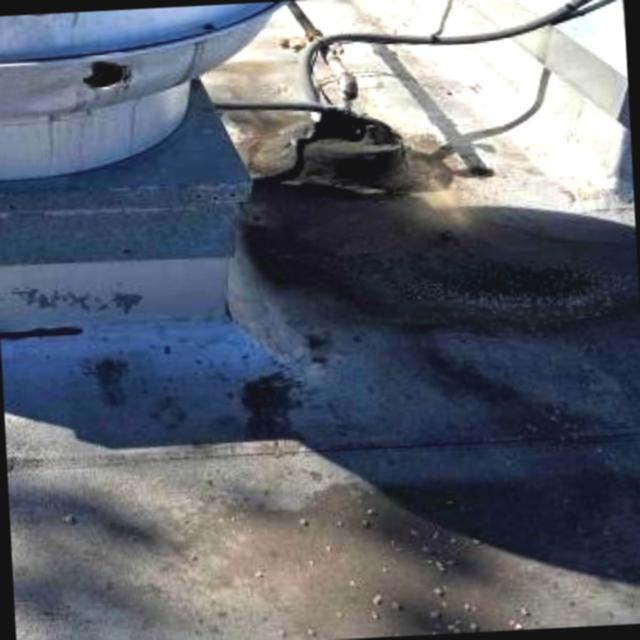GRAVITY-VENT: (0, 0, 327, 285)
RTU: (367, 0, 624, 19)
